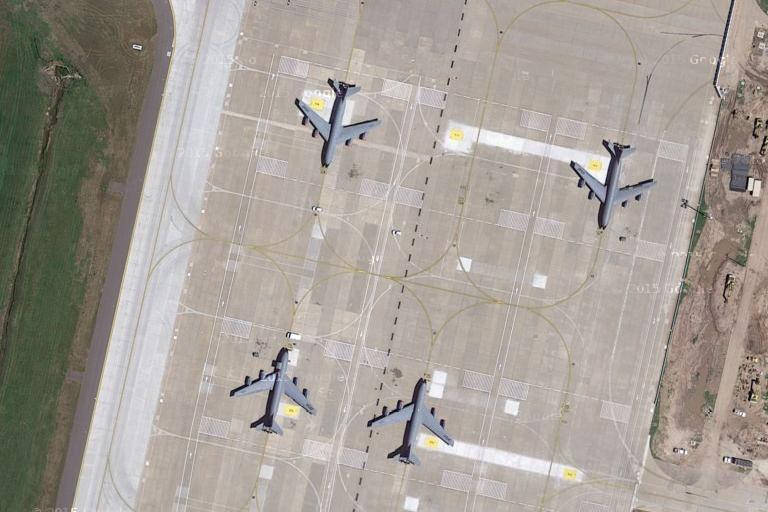KC-135: (566, 134, 662, 233), (223, 342, 320, 439), (293, 77, 389, 170), (367, 375, 458, 470)
